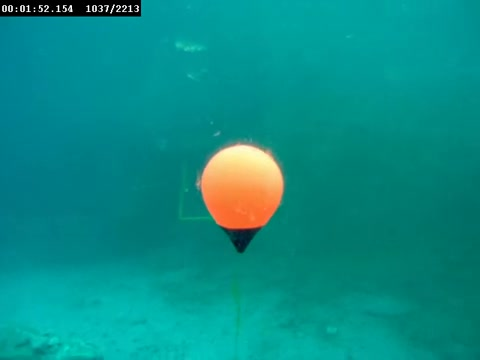buoy_red: (194, 142, 287, 259)
